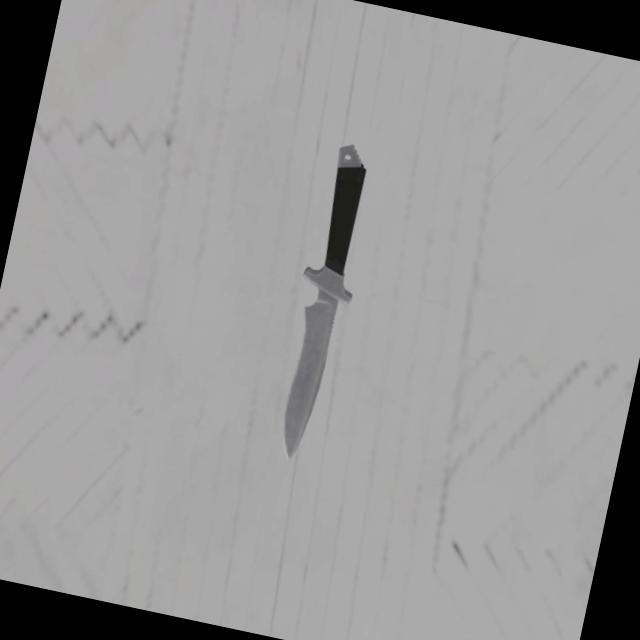knife: (316, 160, 366, 272)
